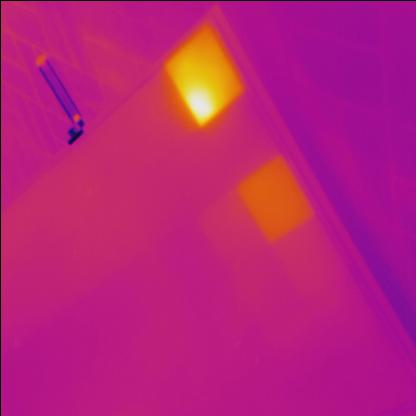hotspot: (152, 19, 248, 131)
